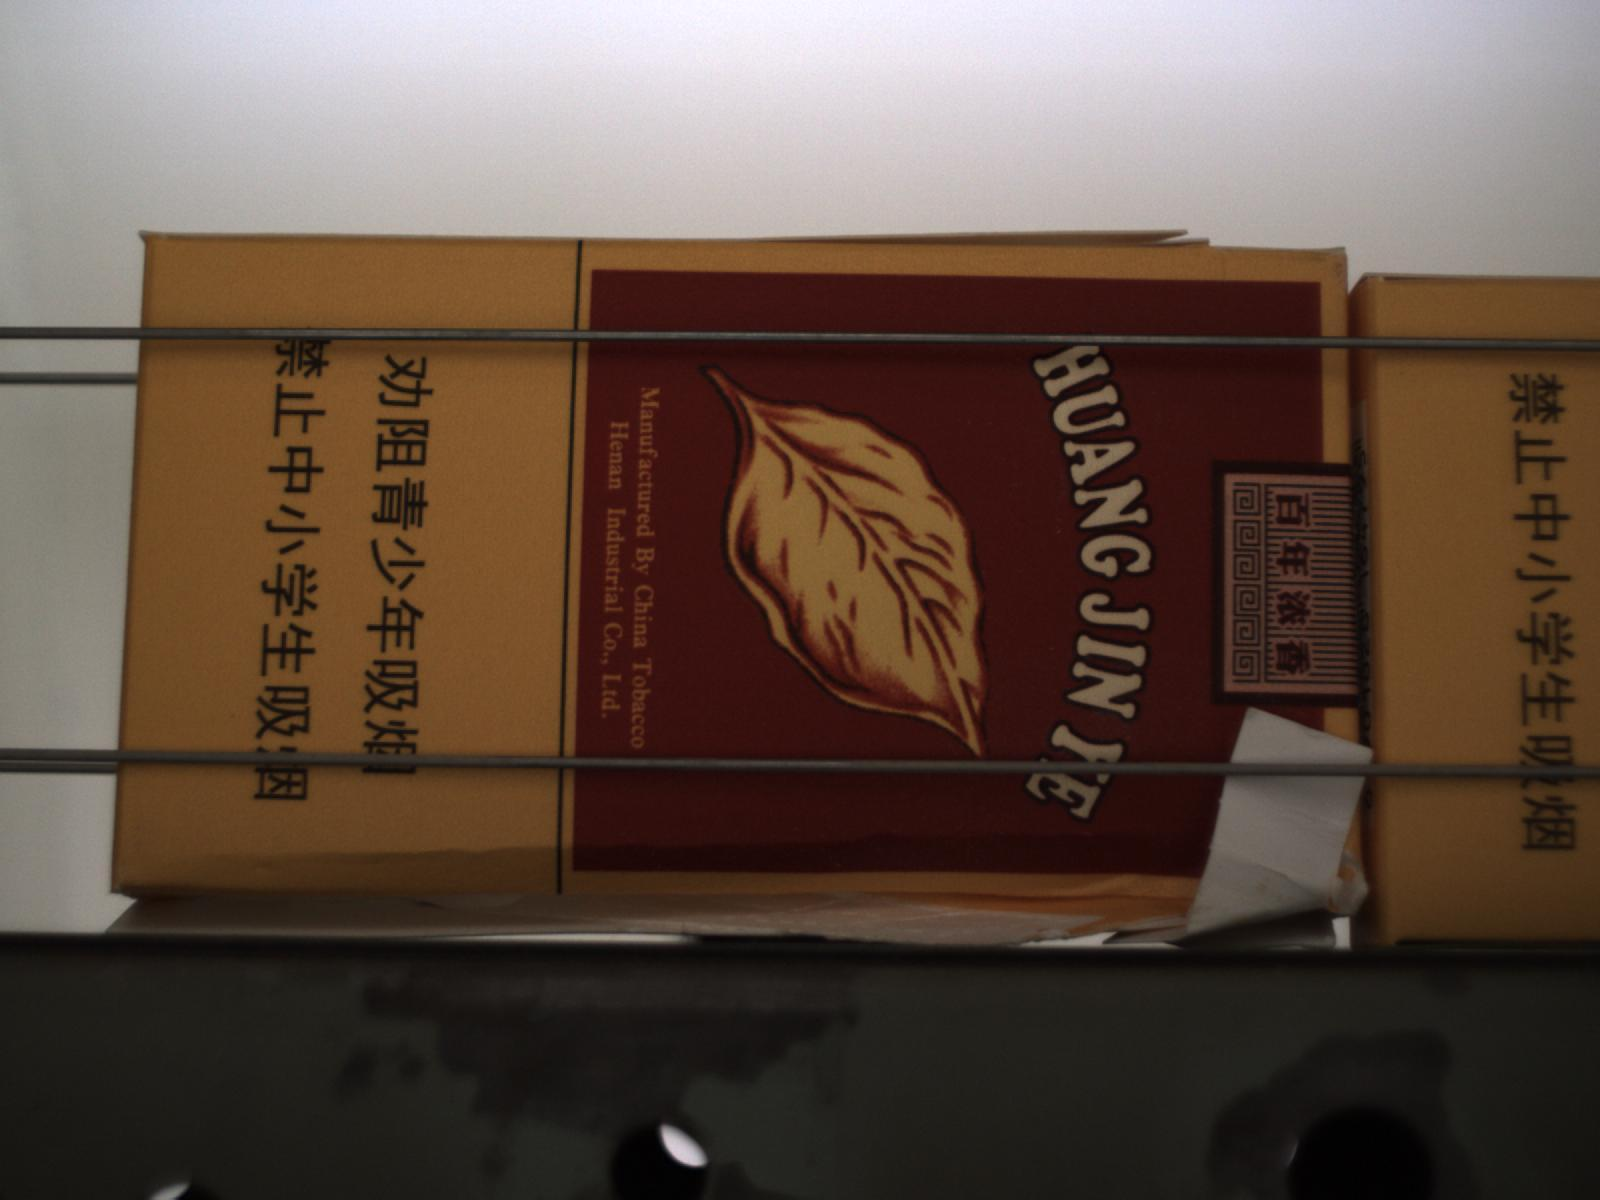bottomUpwarp_upper_1: (769, 228, 1204, 252)
boxDamage_back_heavy: (103, 824, 1376, 944)
dirtyPrint: (1054, 528, 1065, 534), (1049, 645, 1057, 652)
frame: (1180, 705, 1374, 942)
